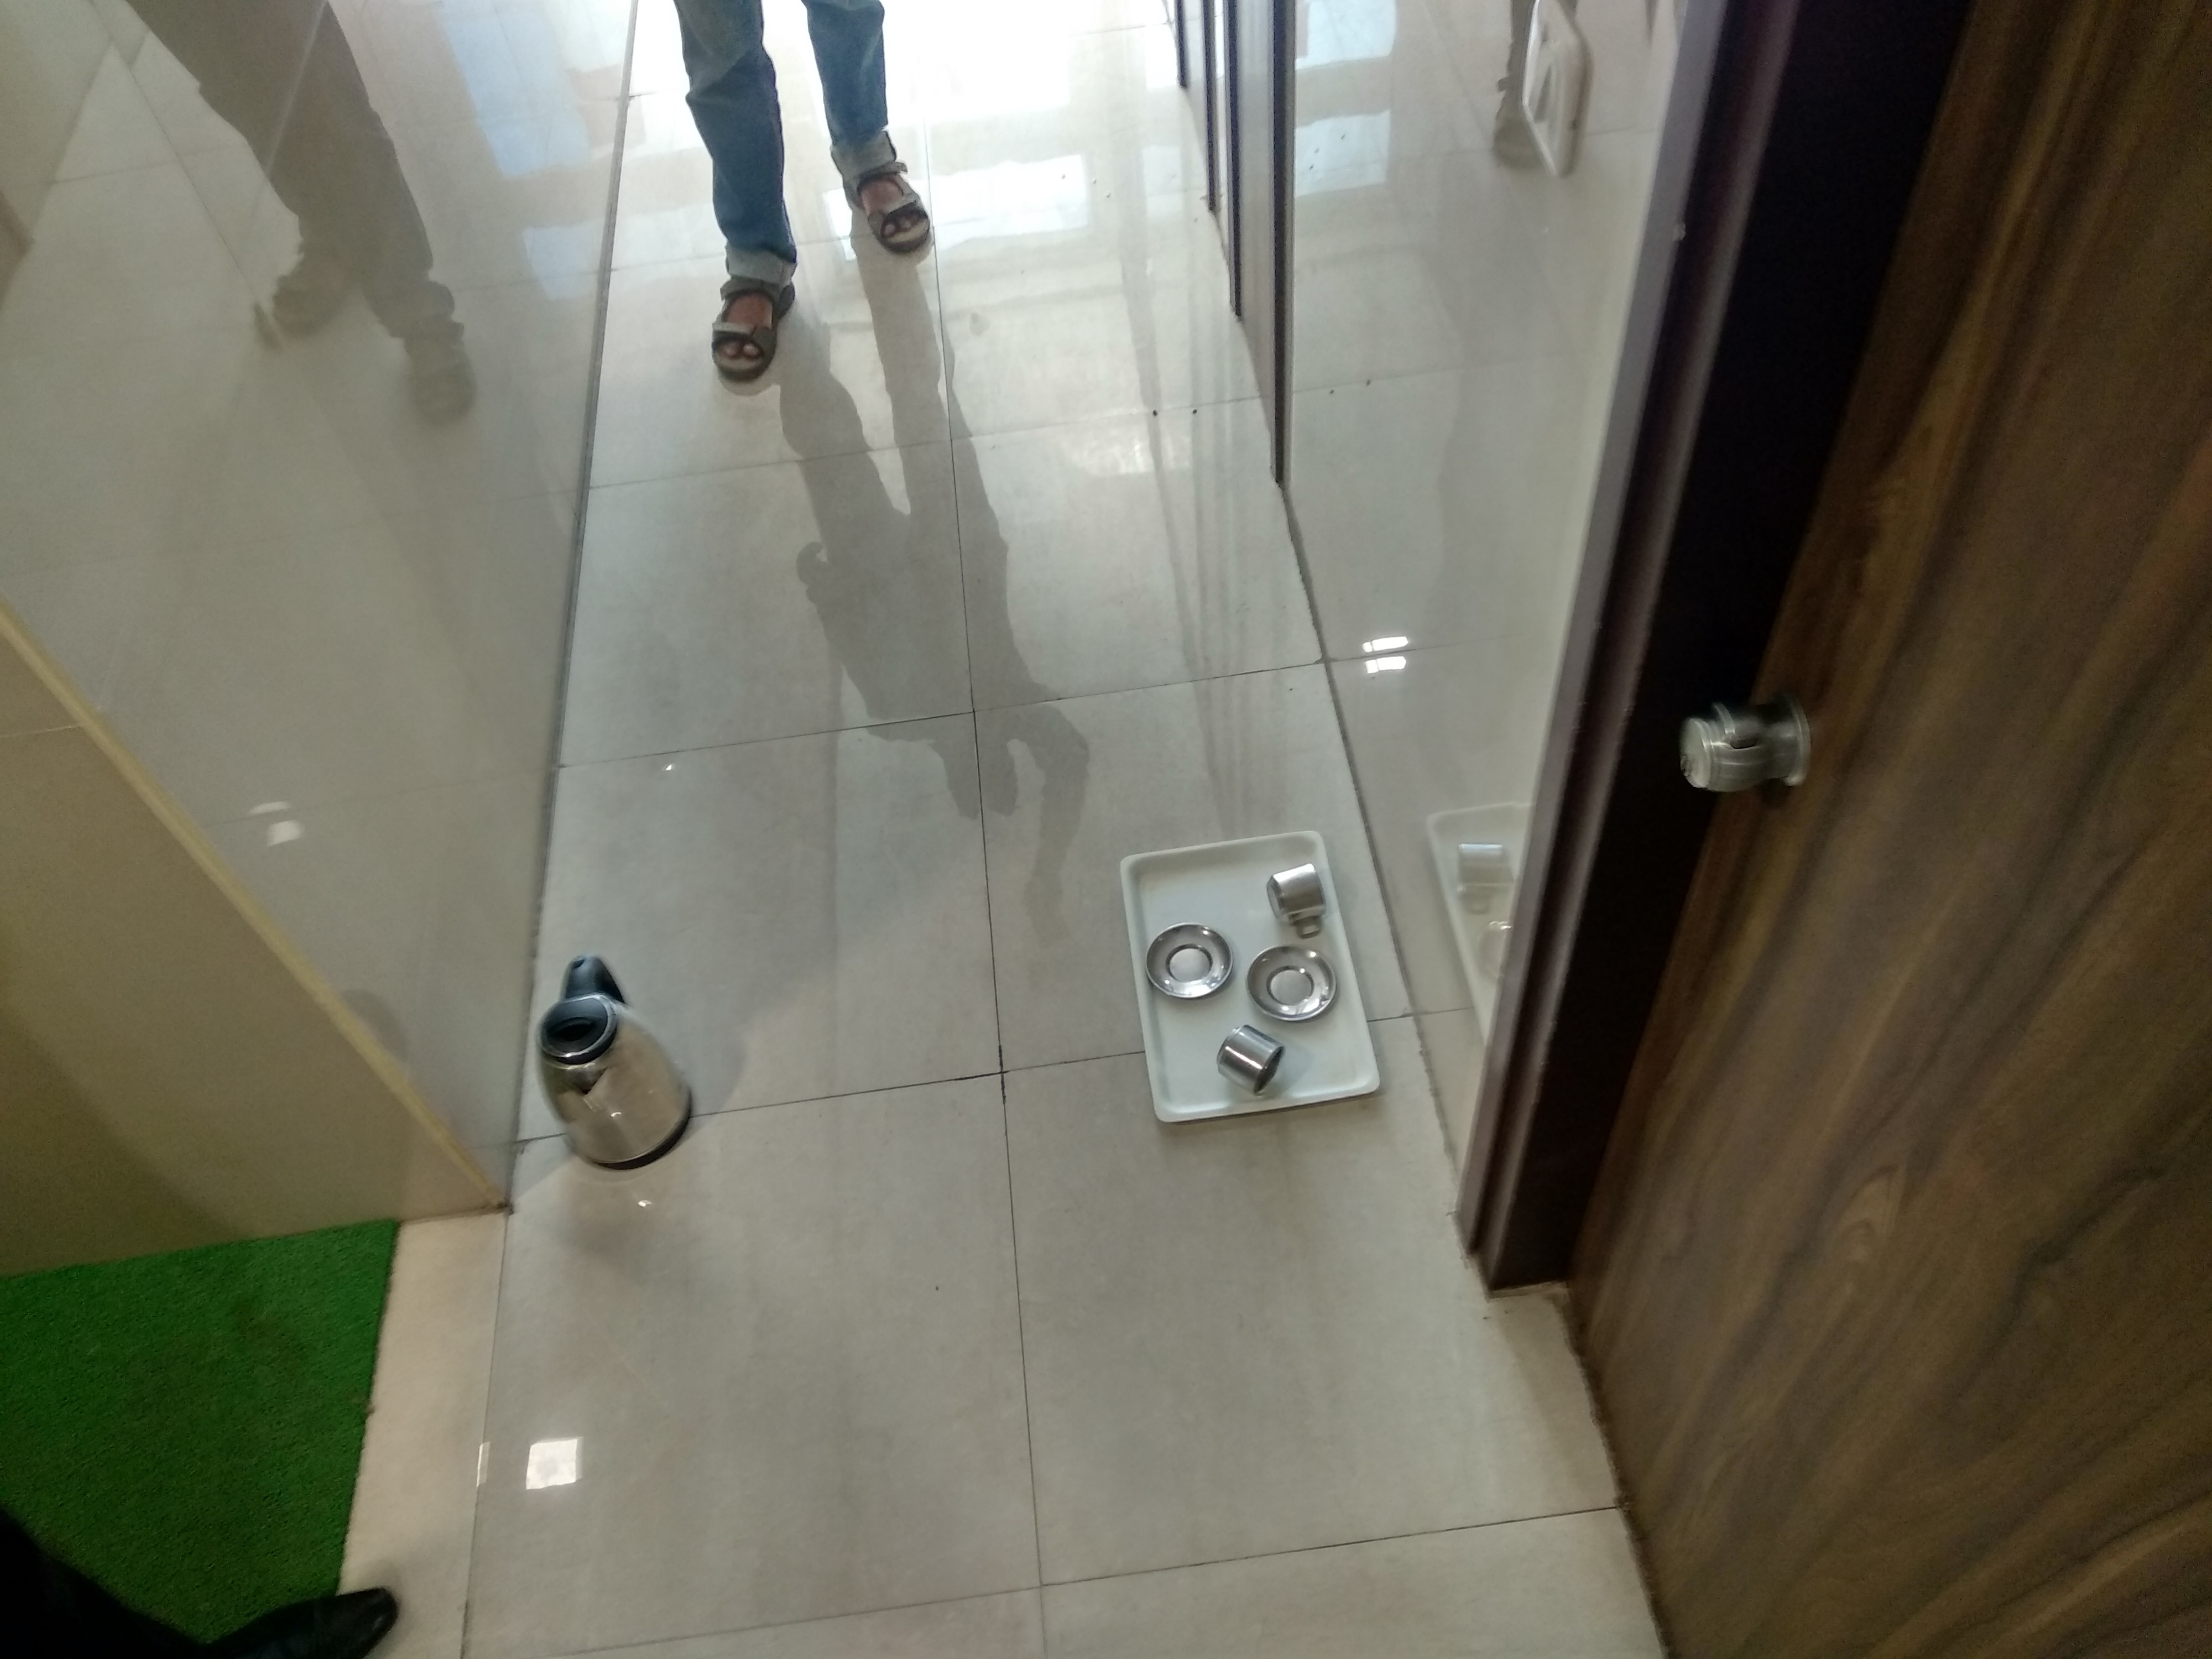CUP: (1264, 854, 1332, 931), (1228, 1025, 1285, 1098)
FLASK: (536, 955, 697, 1182)
